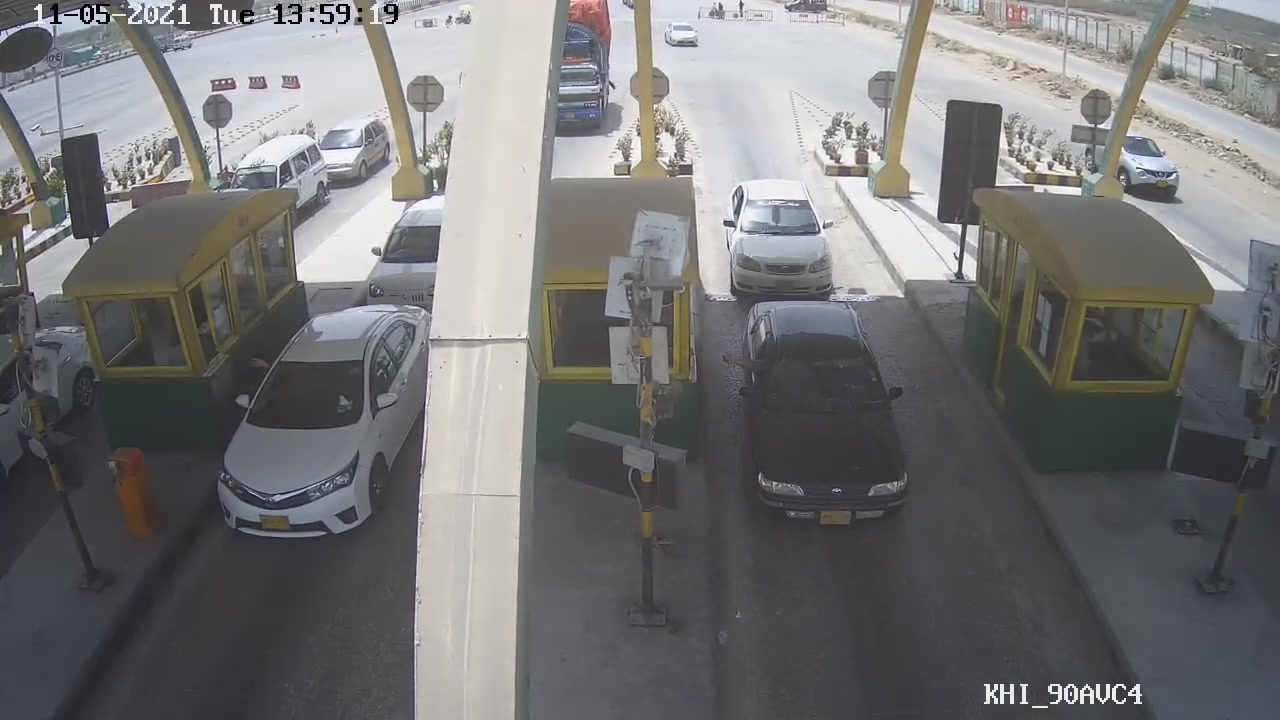F1: (741, 292, 912, 526), (724, 174, 838, 301)
